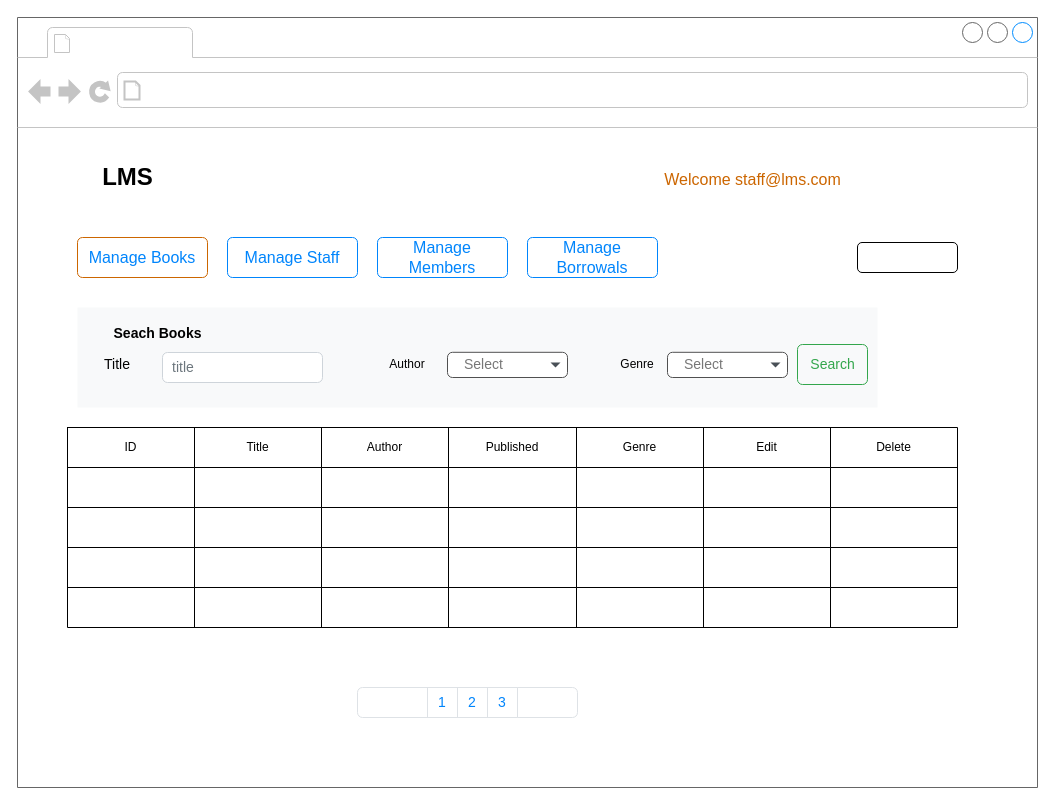
Some shapes in this 1055 by 805 pixel diagram are drawn without their labels. Each missing label, with the box of its shape:
ADD BOOK: (856, 242, 958, 272)
LMS HOME / Books: (146, 76, 398, 104)
Next: (516, 686, 578, 718)
Page 1: (76, 28, 188, 56)
Previous: (356, 686, 428, 718)
